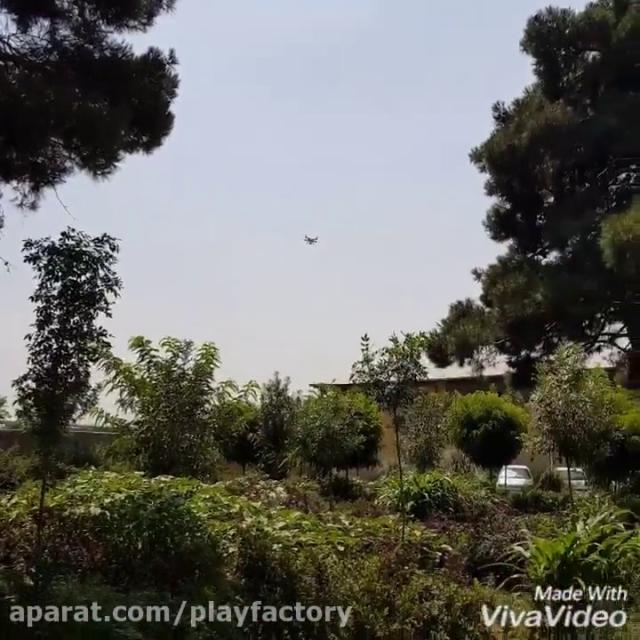drone: (298, 228, 324, 248)
